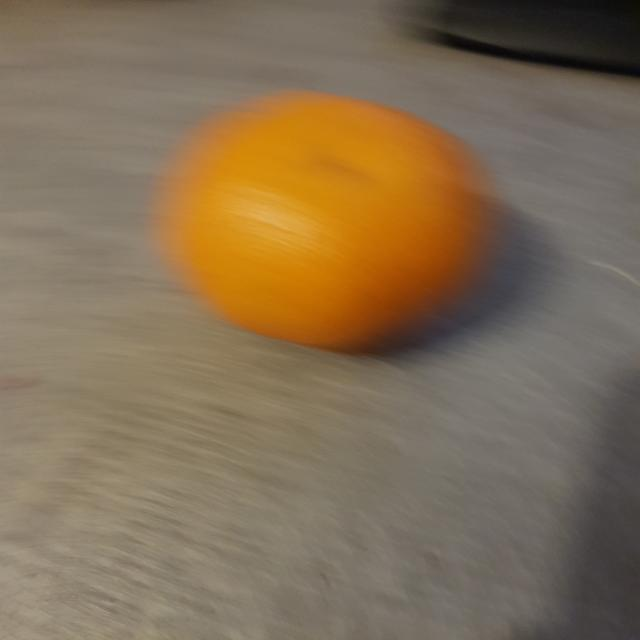Orange: (149, 91, 511, 356)
